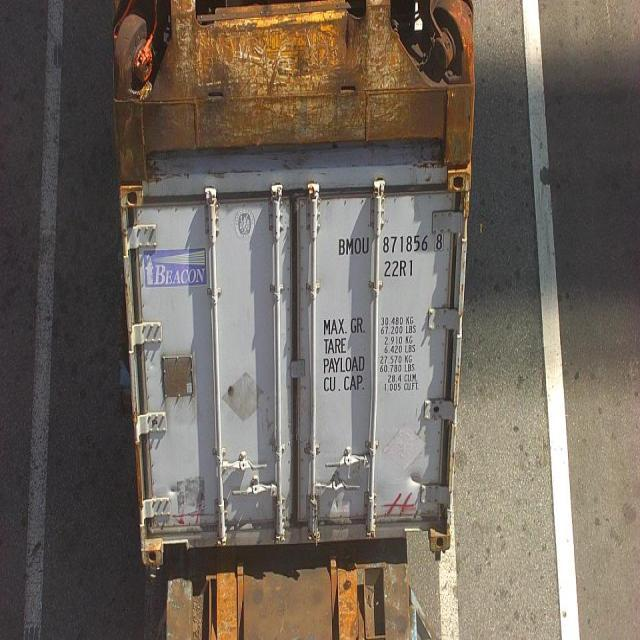ISO: (384, 258, 414, 278)
container_number: (335, 236, 452, 256)
